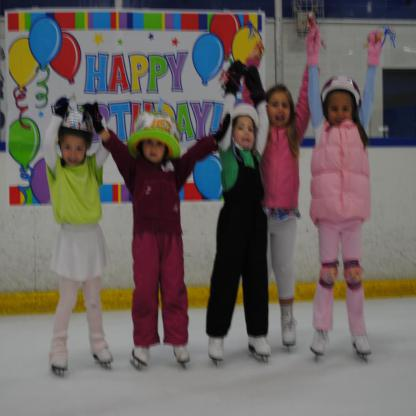face: (329, 92, 353, 129), (62, 133, 87, 168), (269, 91, 291, 128), (233, 115, 255, 149), (144, 134, 166, 163)
